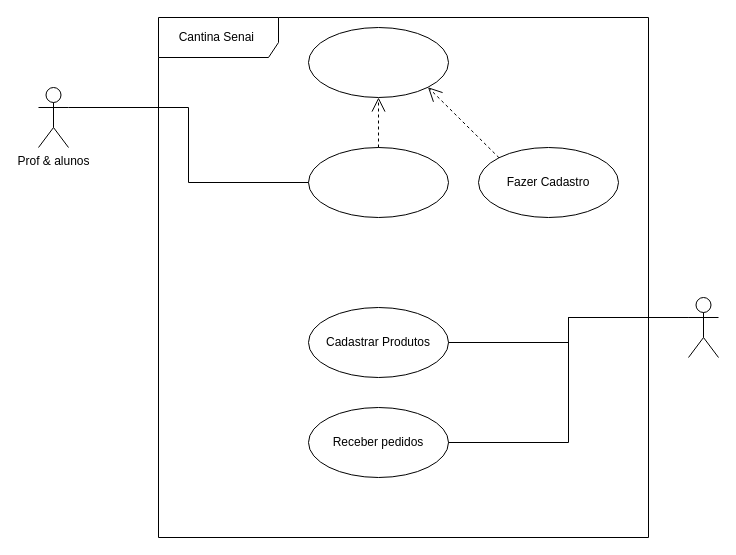
The diagram is 736 pixels wide and 555 high, and some of its shapes have lost their labels. The box of each missing label's shape, as (x1, y1, x2, y2) in pixels:
ADM: (688, 296, 718, 358)
Fazer Login: (308, 26, 448, 98)
Fazer Pedidos: (308, 146, 448, 218)
